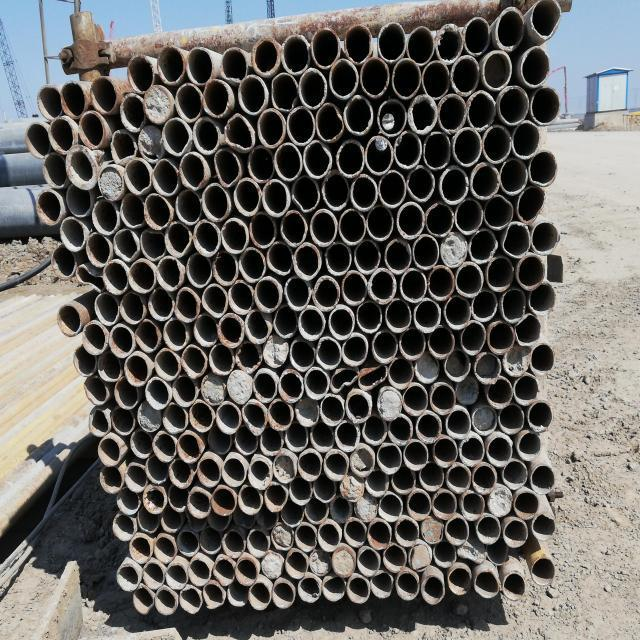pipe: (494, 6, 526, 54), (65, 144, 98, 190), (297, 66, 328, 110), (496, 85, 530, 125), (237, 74, 269, 116), (519, 46, 551, 88), (451, 126, 483, 168), (482, 48, 512, 92), (466, 88, 496, 132), (223, 112, 255, 153), (392, 57, 422, 100), (252, 34, 280, 80), (530, 0, 562, 40), (343, 95, 374, 136), (461, 15, 491, 57), (328, 58, 358, 100), (360, 56, 390, 98), (437, 93, 468, 133), (438, 166, 469, 206), (280, 34, 310, 75), (310, 27, 340, 68), (162, 116, 192, 157), (302, 138, 332, 179), (232, 177, 262, 218), (451, 54, 480, 96), (406, 94, 438, 132), (260, 178, 291, 217), (376, 22, 406, 62), (202, 78, 232, 118), (531, 86, 561, 126), (272, 142, 302, 182), (364, 136, 394, 176), (512, 120, 542, 160), (470, 160, 500, 200), (174, 81, 203, 122), (344, 22, 372, 64), (270, 71, 298, 113), (315, 101, 343, 143), (482, 124, 512, 163), (406, 164, 436, 203), (336, 208, 366, 247), (396, 201, 426, 240), (126, 54, 155, 94), (157, 44, 186, 84), (421, 60, 450, 100), (192, 116, 221, 156), (201, 182, 230, 222), (434, 23, 462, 64), (258, 108, 286, 149), (92, 195, 120, 236), (423, 130, 451, 171), (483, 193, 514, 230), (143, 84, 173, 122), (377, 98, 407, 136), (212, 148, 242, 186), (392, 131, 422, 169), (454, 260, 484, 298), (78, 109, 107, 148), (517, 185, 546, 224), (292, 242, 321, 281), (178, 152, 206, 192), (336, 138, 364, 178), (350, 172, 378, 212), (310, 208, 338, 248), (454, 198, 484, 235), (48, 116, 77, 154), (96, 164, 125, 202), (35, 188, 64, 226), (89, 75, 117, 114), (406, 26, 434, 65), (286, 106, 314, 145), (248, 145, 276, 184), (500, 156, 528, 195), (467, 229, 498, 264), (137, 124, 164, 164), (528, 150, 558, 186), (500, 222, 530, 258), (530, 220, 560, 256), (283, 276, 313, 312), (366, 268, 396, 304), (279, 210, 308, 247), (383, 237, 412, 274), (413, 296, 442, 333), (152, 157, 178, 198), (144, 192, 172, 230), (378, 170, 406, 208), (192, 218, 220, 256), (425, 200, 453, 238), (400, 266, 428, 304), (427, 264, 455, 302), (517, 254, 545, 292), (220, 218, 250, 253), (244, 308, 273, 344), (24, 120, 50, 160), (174, 188, 202, 225), (238, 245, 266, 282), (440, 231, 468, 268), (312, 275, 340, 312), (186, 46, 213, 84), (119, 94, 146, 132), (322, 172, 349, 210), (526, 282, 556, 316), (291, 177, 320, 212), (127, 259, 156, 294), (60, 80, 86, 119), (58, 216, 86, 252), (366, 206, 394, 242), (266, 241, 294, 277), (254, 277, 282, 313), (384, 297, 412, 333), (442, 294, 470, 330), (398, 326, 426, 362), (214, 400, 242, 436), (218, 312, 245, 349), (460, 319, 486, 357), (156, 255, 184, 290), (180, 344, 208, 379), (474, 350, 502, 385), (220, 47, 247, 83), (42, 153, 69, 189), (125, 158, 152, 194), (164, 222, 191, 258), (186, 251, 213, 287), (341, 270, 368, 306), (228, 279, 254, 316), (350, 441, 376, 478), (143, 376, 172, 409), (110, 130, 138, 164), (64, 184, 92, 218), (325, 242, 353, 276), (162, 317, 190, 351), (298, 306, 326, 340), (514, 314, 542, 348), (512, 372, 540, 406), (414, 232, 439, 270), (354, 240, 381, 275), (50, 244, 76, 280), (102, 260, 128, 296), (202, 283, 228, 319), (82, 320, 108, 356), (108, 322, 134, 358), (134, 317, 160, 353), (500, 288, 526, 324), (372, 328, 398, 364), (147, 288, 175, 321), (84, 232, 111, 266), (328, 306, 355, 340), (342, 333, 369, 367), (226, 370, 253, 404), (473, 566, 500, 600), (113, 228, 139, 263), (250, 212, 276, 247), (174, 288, 200, 323), (124, 354, 150, 389), (154, 347, 180, 382), (262, 334, 288, 369), (172, 373, 198, 408), (278, 368, 304, 403), (530, 342, 556, 377), (355, 301, 383, 333), (502, 346, 530, 378), (526, 400, 554, 432), (485, 436, 513, 468), (474, 514, 502, 546), (140, 228, 167, 261), (236, 342, 263, 375), (444, 350, 471, 383), (120, 194, 146, 228), (56, 304, 82, 338), (94, 292, 120, 326), (486, 256, 512, 290), (208, 342, 234, 376), (242, 401, 268, 435), (376, 388, 402, 422), (402, 384, 428, 418), (366, 518, 392, 552), (213, 252, 238, 287), (316, 336, 341, 371), (498, 405, 526, 436), (200, 374, 227, 406), (415, 412, 442, 444), (304, 366, 330, 399), (414, 352, 440, 385), (268, 399, 294, 432), (472, 403, 498, 436), (37, 84, 62, 118), (487, 374, 512, 408), (323, 448, 348, 482), (418, 462, 446, 492), (445, 408, 472, 439), (119, 294, 145, 326), (290, 338, 316, 370), (428, 326, 454, 358), (488, 322, 514, 354), (162, 403, 188, 435), (319, 394, 345, 426), (346, 392, 372, 424), (430, 384, 456, 416), (151, 432, 177, 464), (176, 432, 202, 464), (334, 420, 360, 452), (196, 456, 222, 488), (141, 483, 167, 515), (530, 556, 556, 588), (193, 313, 218, 346), (189, 401, 214, 434), (388, 413, 413, 446), (247, 458, 272, 491), (272, 307, 298, 338), (96, 352, 122, 383), (96, 436, 122, 467), (168, 458, 194, 489), (432, 438, 458, 469), (516, 431, 542, 462), (186, 488, 212, 519), (211, 487, 237, 518), (446, 463, 472, 494), (514, 491, 540, 522), (246, 528, 272, 559), (72, 344, 97, 376), (113, 378, 138, 410), (252, 370, 277, 402), (388, 357, 413, 389), (362, 414, 387, 446), (377, 442, 402, 474), (530, 462, 555, 494), (394, 516, 419, 548), (501, 570, 526, 602), (76, 264, 104, 292), (83, 376, 109, 406), (330, 367, 360, 393), (294, 398, 320, 428), (272, 454, 298, 484), (459, 436, 485, 466), (263, 482, 289, 512), (340, 472, 366, 502), (471, 463, 497, 493), (111, 512, 137, 542), (530, 512, 556, 542), (502, 518, 528, 548), (420, 575, 446, 605), (472, 290, 497, 321), (357, 365, 388, 390), (111, 404, 135, 436), (457, 540, 486, 566), (136, 402, 161, 432), (403, 441, 428, 471), (238, 486, 263, 516), (312, 474, 337, 504), (502, 460, 527, 490), (487, 486, 512, 516), (444, 516, 469, 546), (395, 570, 420, 600), (310, 422, 334, 453), (124, 462, 148, 493), (222, 457, 246, 488), (206, 428, 232, 456), (288, 477, 314, 505), (364, 470, 390, 498), (353, 496, 379, 524), (270, 582, 296, 610), (432, 540, 458, 568), (297, 575, 322, 604), (100, 464, 124, 494), (145, 456, 169, 486), (298, 452, 322, 482), (406, 490, 430, 520), (432, 490, 456, 520), (152, 534, 176, 564), (198, 526, 222, 556), (342, 517, 366, 547), (116, 562, 140, 592), (213, 554, 235, 586), (455, 376, 480, 404), (233, 426, 258, 454), (391, 466, 416, 494), (221, 530, 246, 558), (116, 487, 140, 516), (460, 492, 484, 521), (294, 523, 318, 552), (285, 551, 309, 580), (448, 566, 472, 595), (129, 430, 152, 460), (235, 557, 258, 587), (409, 542, 432, 572), (318, 522, 340, 553), (258, 430, 284, 456), (378, 495, 402, 523), (176, 530, 200, 558), (154, 588, 178, 616), (260, 552, 284, 580), (129, 535, 152, 564), (332, 547, 354, 577), (247, 583, 271, 610), (285, 424, 308, 452), (142, 562, 165, 590), (165, 563, 188, 591), (187, 558, 210, 586), (202, 584, 225, 612), (226, 580, 249, 608), (347, 576, 370, 604), (357, 548, 380, 576), (486, 538, 509, 566), (166, 483, 188, 512), (371, 571, 393, 600), (88, 408, 109, 438), (132, 585, 153, 615), (420, 518, 444, 544), (178, 588, 202, 614), (322, 576, 346, 602), (138, 504, 160, 532), (160, 506, 182, 534), (330, 496, 352, 524), (384, 544, 406, 572), (272, 524, 294, 550), (309, 550, 331, 576), (305, 500, 328, 524), (279, 506, 305, 526), (232, 508, 255, 528), (208, 510, 230, 530), (256, 512, 280, 530), (186, 512, 206, 532)
